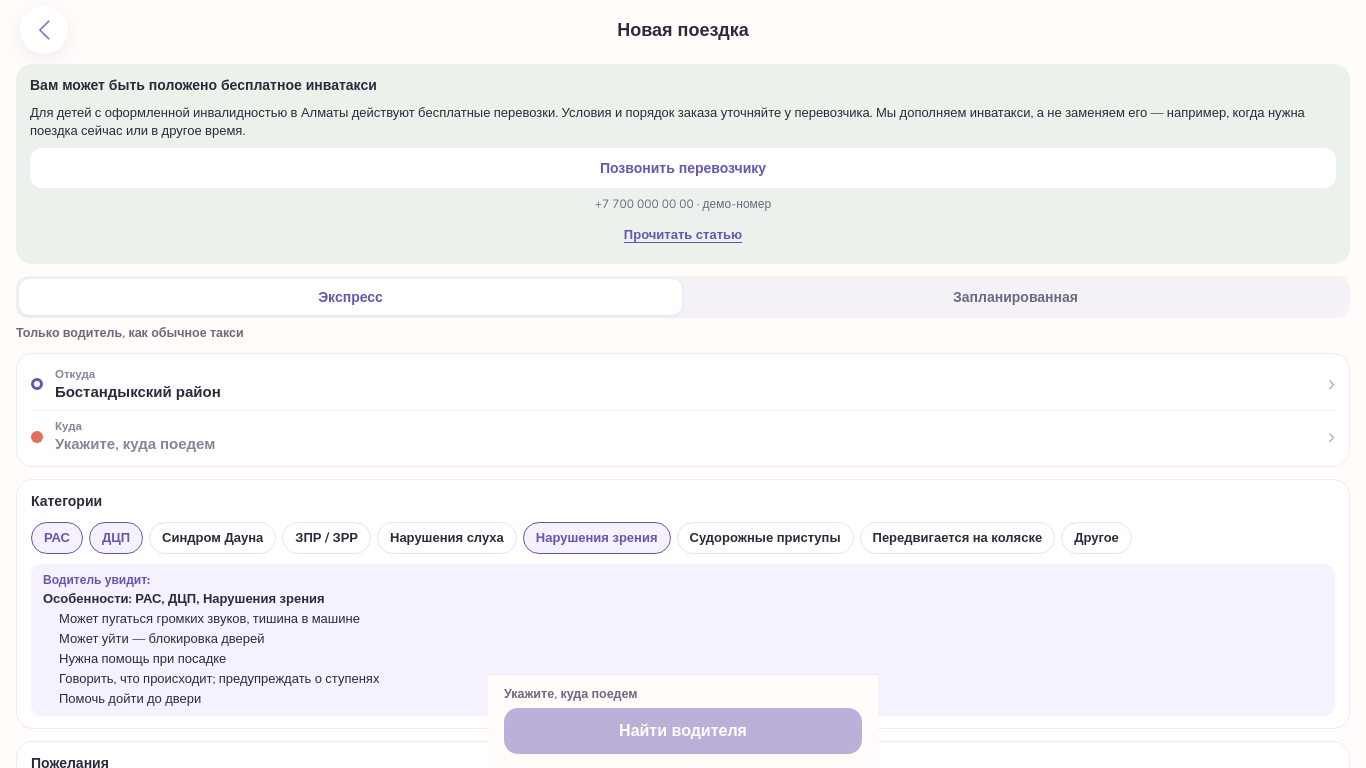
Scenario: new ride and invataxi › card categories and hints are prefilled, no sharing switch, other is editable
This screenshot has width=1366, height=768.
Check: the list item "Может пугаться громких звуков, тишина в машине" is shown, box [59,610,360,628]
Check: the list item "Нужна помощь при посадке" is shown, box [59,650,226,668]
Click the button "Другое" at coordinates (1096, 538), box [1061,522,1132,554]
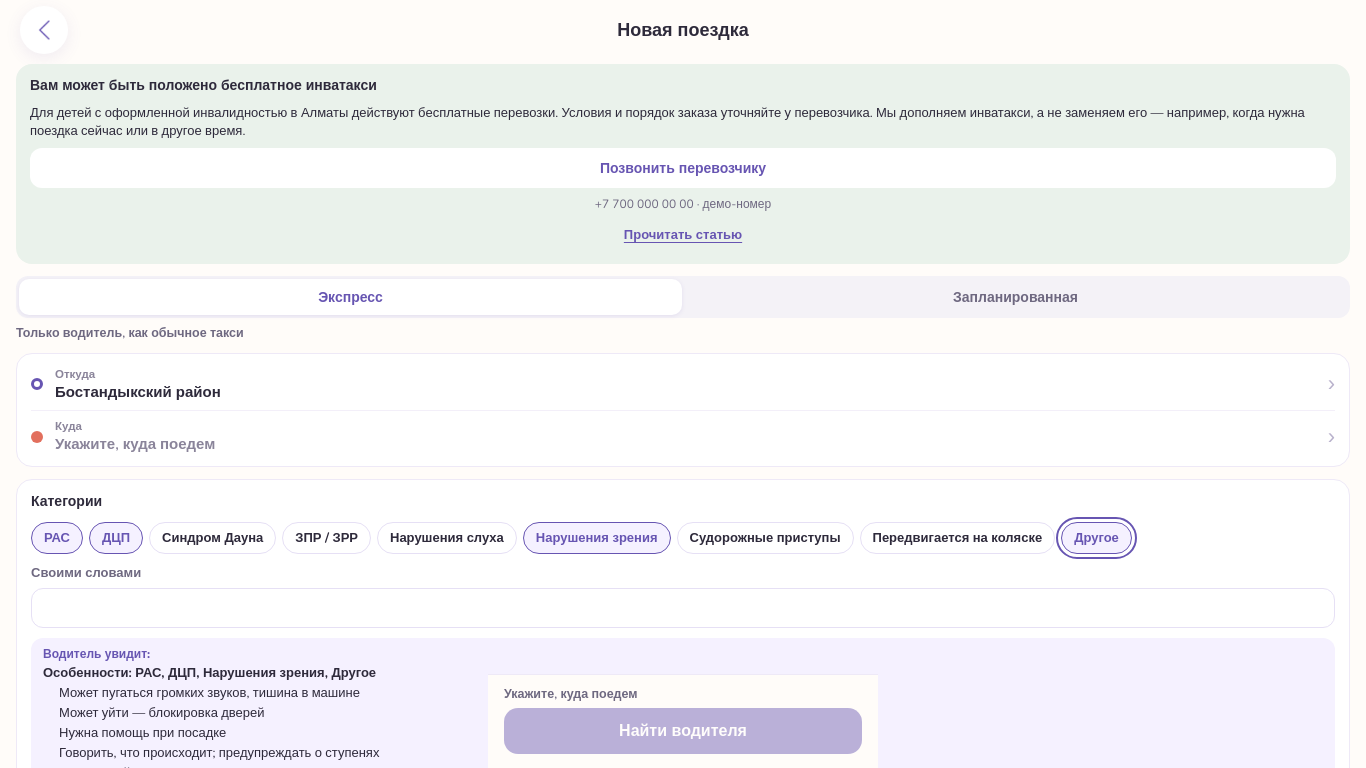
Click the button "РАС" at coordinates (57, 538), box [31,522,83,554]
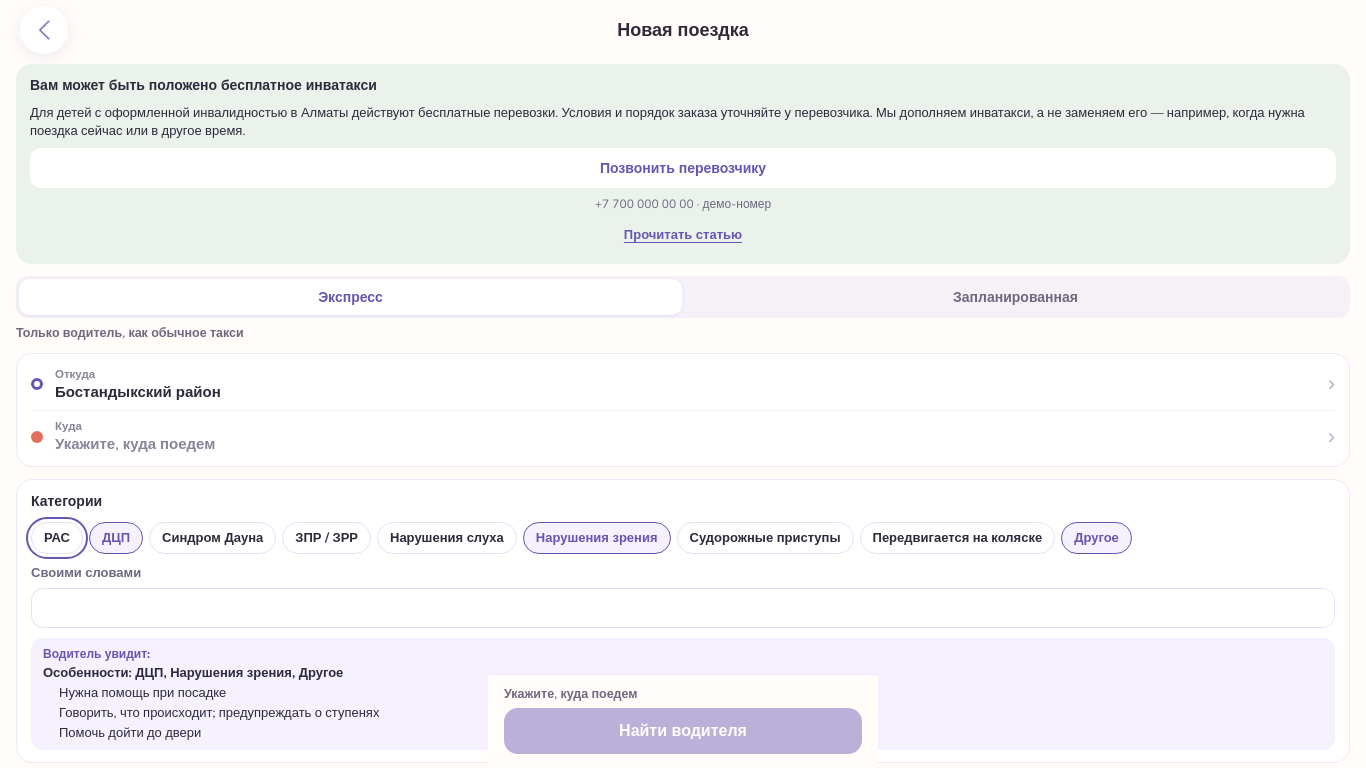
Check: the list item "Может пугаться громких звуков, тишина в машине" is gone
